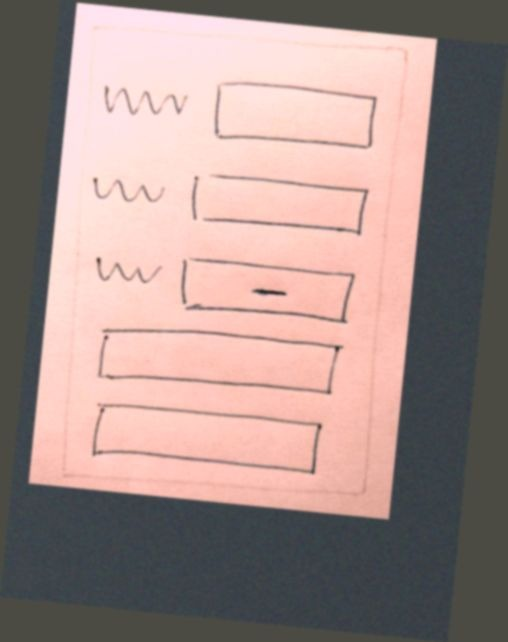button: (172, 249, 363, 332)
text: (96, 78, 194, 131), (87, 246, 168, 293), (86, 169, 170, 214)
text_input: (81, 395, 337, 483), (92, 318, 347, 406), (205, 75, 383, 162), (186, 165, 372, 246)
